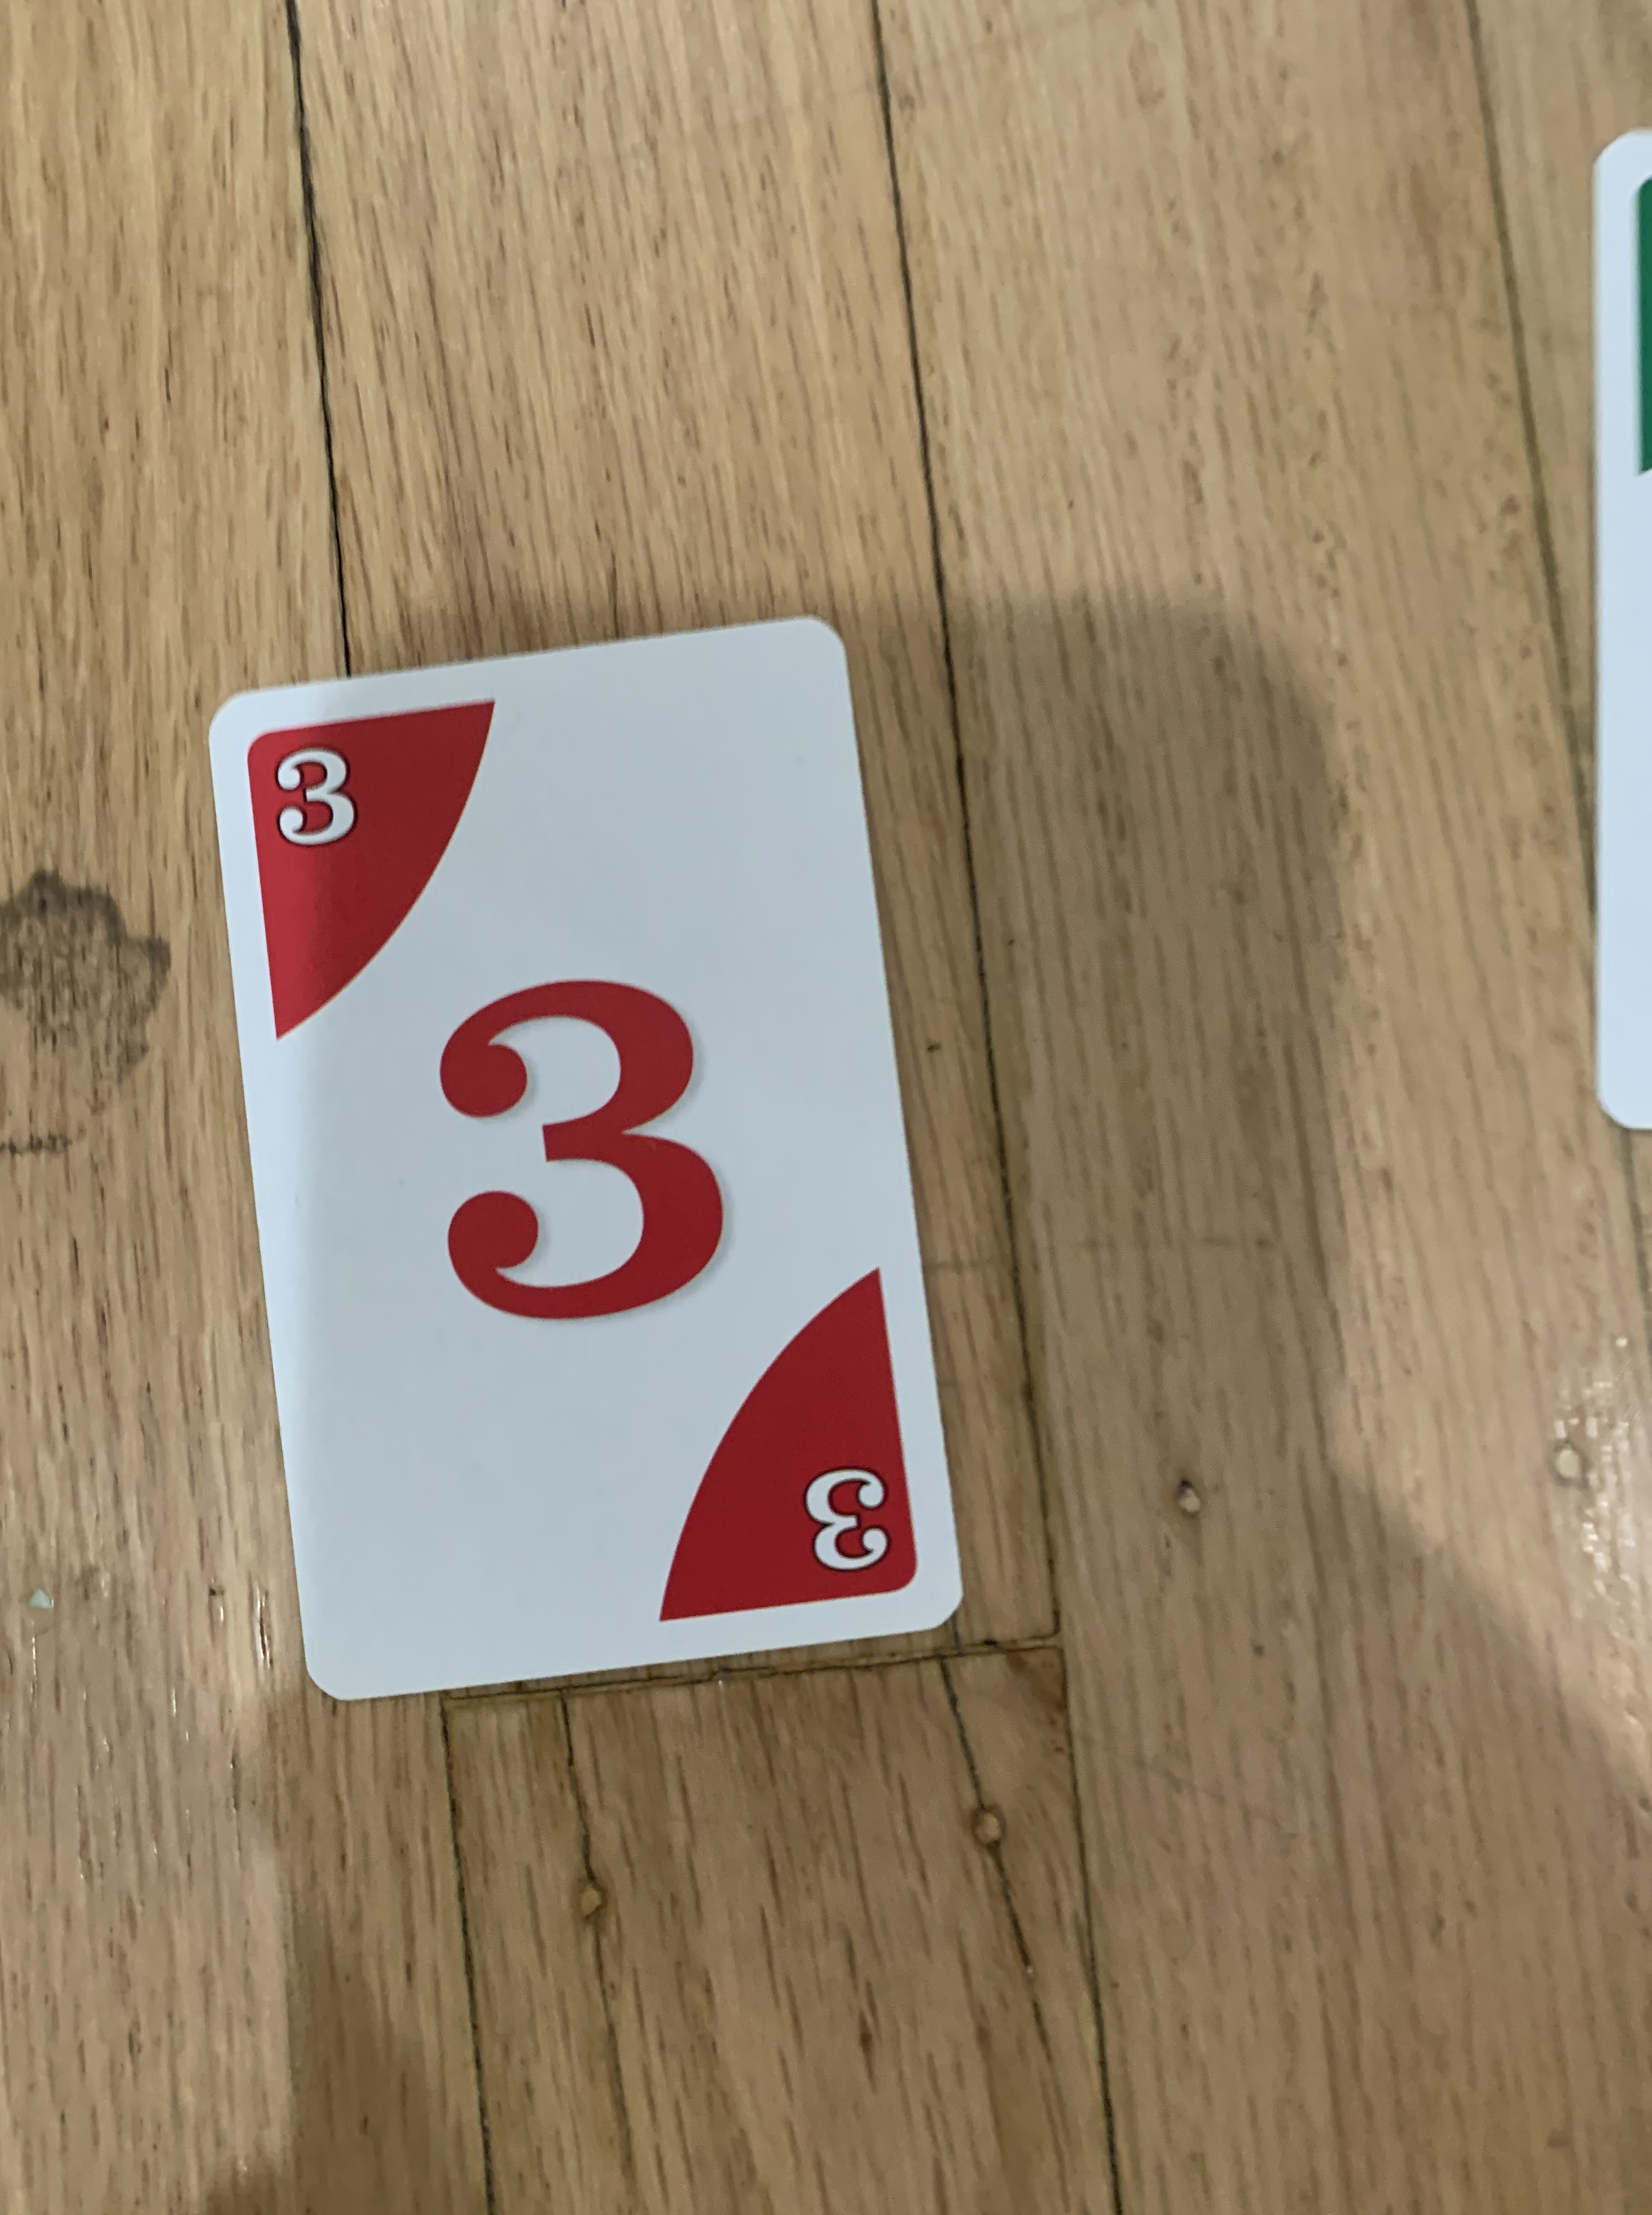three: (201, 601, 977, 1720)
